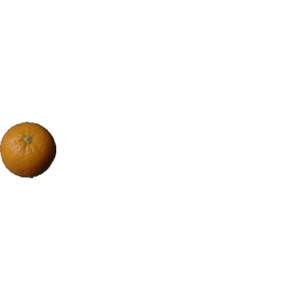laranja: (1, 119, 58, 180)
